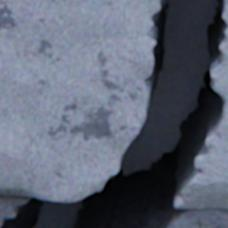broken_brick: (0, 0, 160, 200), (175, 28, 227, 207), (222, 0, 227, 22)
crack: (0, 0, 227, 227)
